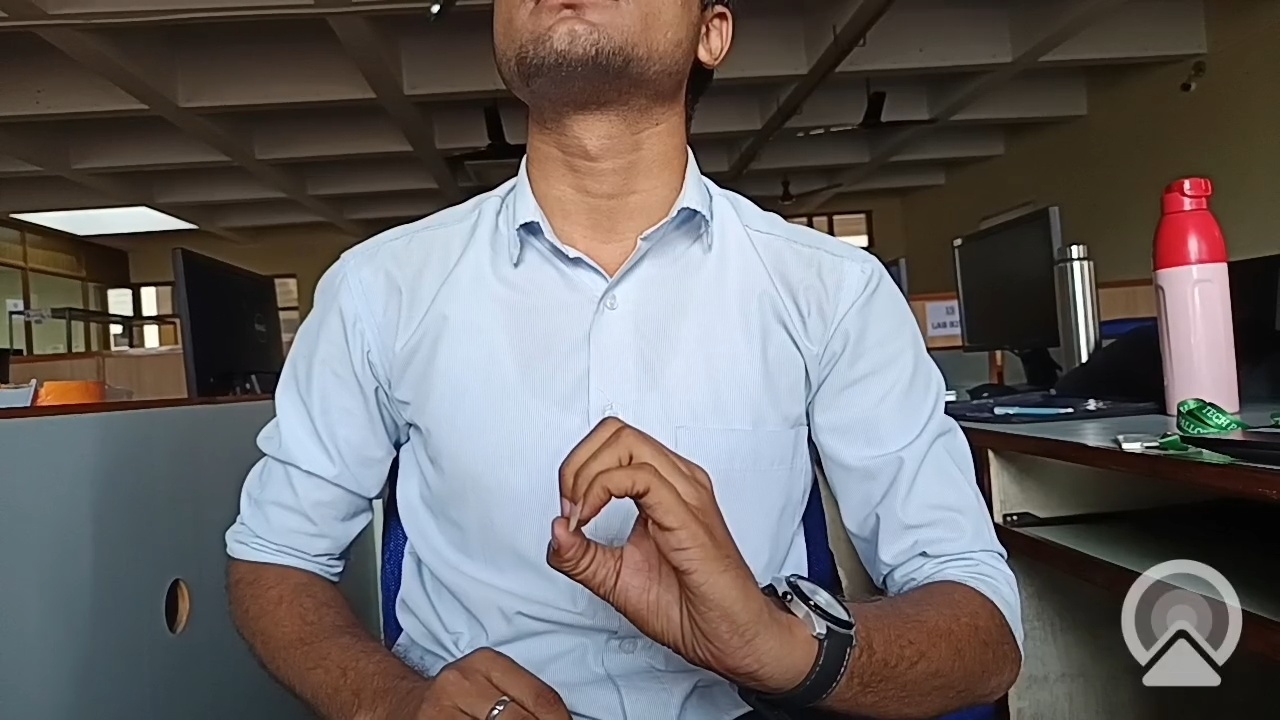O: (495, 362, 821, 702)
